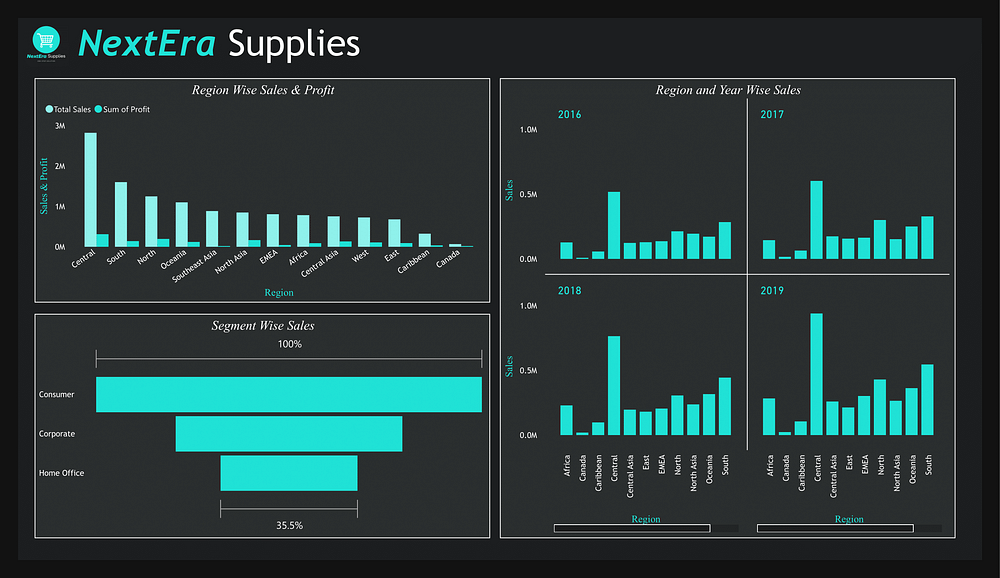

The page's visual inventory and layout, read from the dashboard file:
{"tool":"powerbi","page":{"name":"Page 4","canvas":[1280,720],"ordinal":3},"visuals":[{"type":"image","box":[0,0,74.1,69.1],"z":0},{"type":"textbox","box":[74.1,0,401.2,69.1],"z":1000},{"type":"clusteredColumnChart","title":"Region Wise Sales & Profit","fields":{"Category":["Orders.Region"],"Y":["Measure Table.Total Sales","Sum(Orders.Profit)"]},"box":[22.4,80,604.7,297.6],"z":2000},{"type":"funnel","title":"Segment Wise Sales","fields":{"Category":["Orders.Segment"],"Y":["Sum(Orders.Sales)"]},"box":[22.4,392.9,604.7,297.6],"z":3000},{"type":"clusteredColumnChart","title":"Region and Year Wise Sales","fields":{"Category":["Orders.Region"],"Rows":["Orders.Order Date.Variation.Date Hierarchy.Year"],"Y":["Sum(Orders.Sales)"]},"box":[640,80,604.7,610.6],"z":4000}]}

Visuals, with their boxes in screenshot pixels (x1, y1, x2, y2), scaled from the page's 1280x720 canvas onto the 1000x578 screenshot:
image: {"left": 0, "top": 0, "right": 58, "bottom": 55}
textbox: {"left": 58, "top": 0, "right": 371, "bottom": 55}
"Region Wise Sales & Profit" clusteredColumnChart: {"left": 18, "top": 64, "right": 490, "bottom": 303}
"Segment Wise Sales" funnel: {"left": 18, "top": 315, "right": 490, "bottom": 554}
"Region and Year Wise Sales" clusteredColumnChart: {"left": 500, "top": 64, "right": 972, "bottom": 554}
